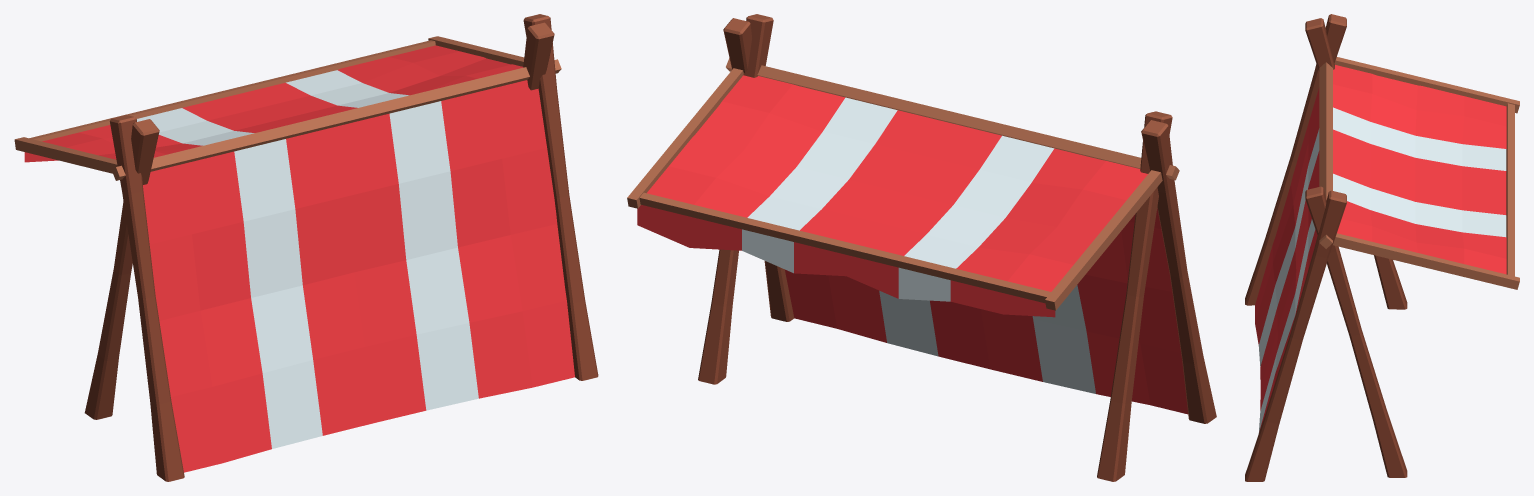
File: Tent.fbx
3 views of the same model, side by side, from view 1: azimuth 30°, elevation 25°; view 2: azimuth 150°, elevation 25°; view 3: azimuth 270°, elevation 25° (orthographic). The views are drawn at different scales.
Parts seen in each view (by area): view 1: Tent; view 2: Tent; view 3: Tent.
Part boxes in pixels (x1=…): Tent: x1=14, y1=14, x2=598, y2=481; Tent: x1=627, y1=14, x2=1216, y2=481; Tent: x1=1245, y1=14, x2=1519, y2=481.
Bounding box in the file's own units: 4.7 × 2.9 × 3.3.
